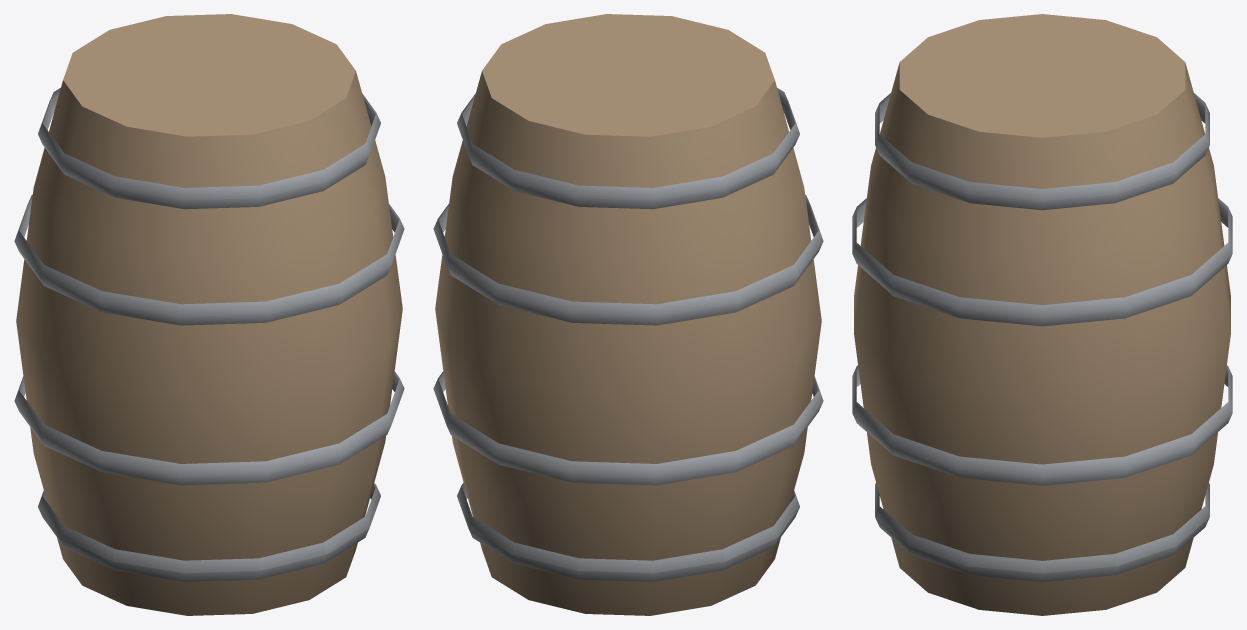
The model's file is barrel_wood.glb.
3 views of the same model, side by side, from view 1: azimuth 30°, elevation 25°; view 2: azimuth 150°, elevation 25°; view 3: azimuth 270°, elevation 25° (orthographic).
Parts seen in each view (by area): view 1: barrel_wood; view 2: barrel_wood; view 3: barrel_wood.
Part boxes in pixels (<box>): barrel_wood: <box>14,14,404,615</box>; barrel_wood: <box>433,14,823,615</box>; barrel_wood: <box>852,14,1232,615</box>.
Size of the model in its own units: 0.666 by 0.9 by 0.6493.
